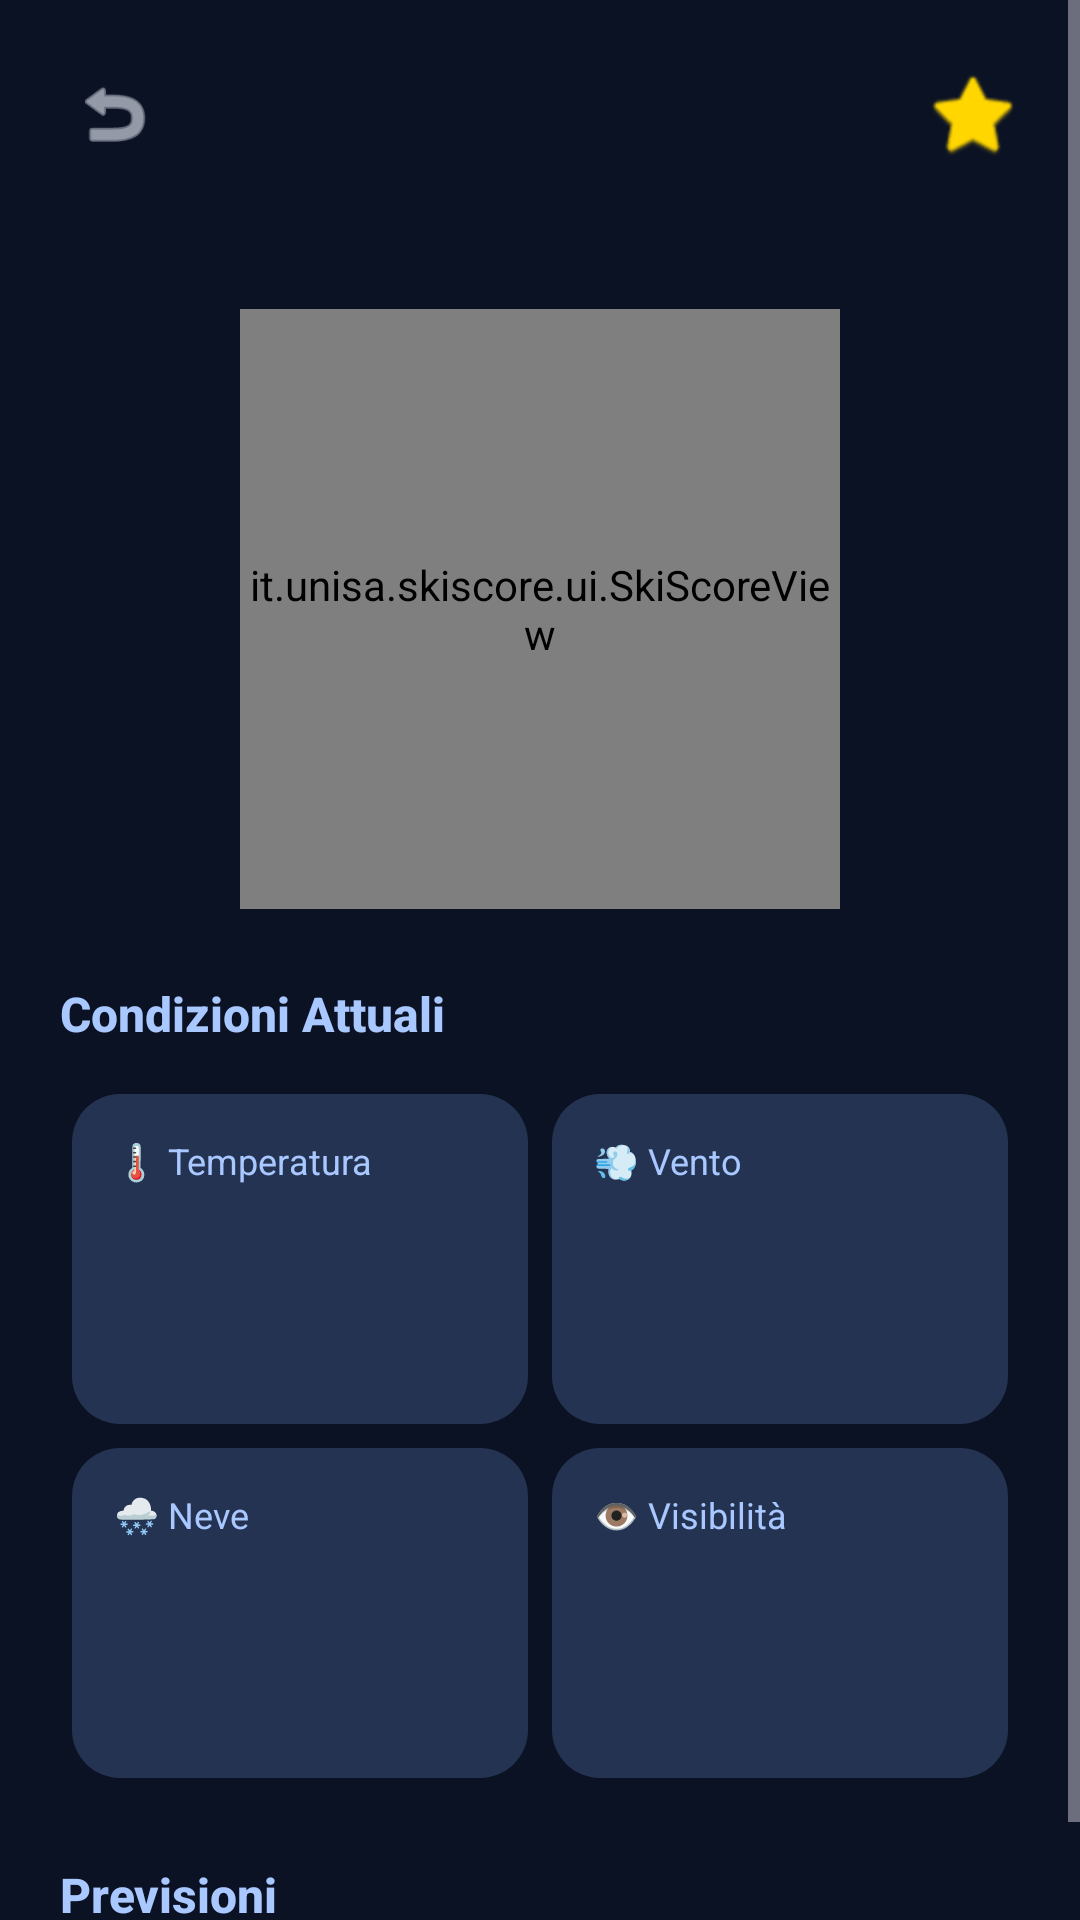

Where to tap for icons on this 1080 x 1920 app screen, as (x=x, y=y):
Aggiungi ai preferiti: (x=973, y=115)
Back: (x=115, y=114)
